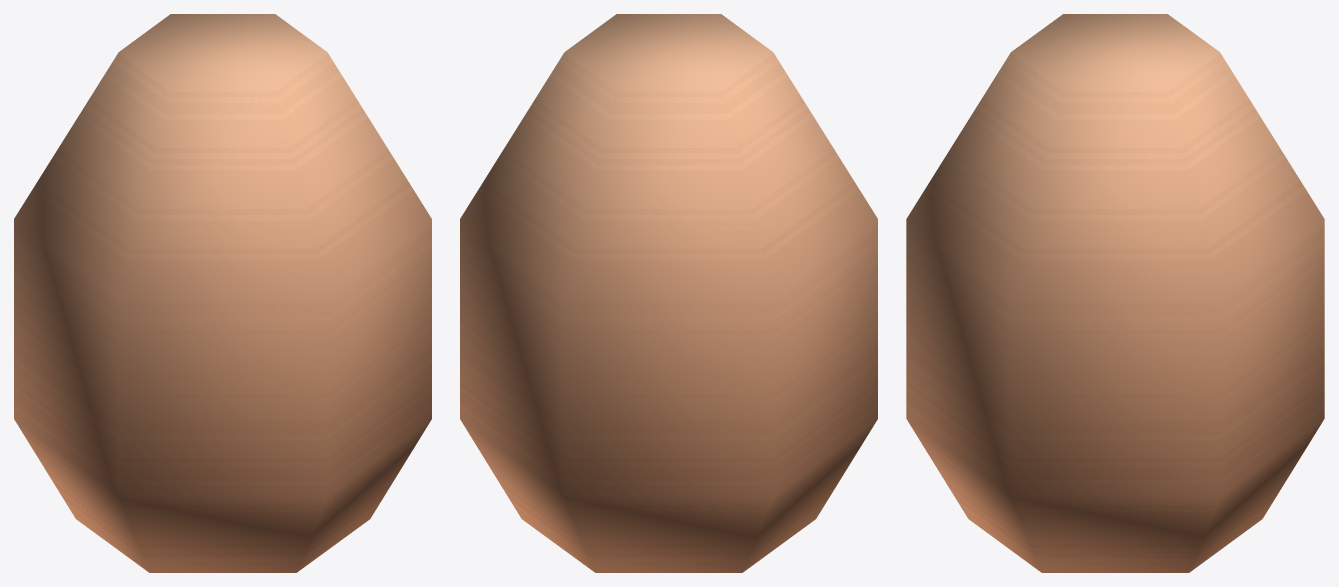
File: egg.glb
3 views of the same model, side by side, from view 1: azimuth 30°, elevation 25°; view 2: azimuth 150°, elevation 25°; view 3: azimuth 270°, elevation 25° (orthographic).
Visible parts, largest first — view 1: egg; view 2: egg; view 3: egg.
Part boxes in pixels (left/top/right/bottom): egg: left=14, top=14, right=431, bottom=572; egg: left=460, top=14, right=877, bottom=572; egg: left=906, top=14, right=1324, bottom=572.
Bounding box in the file's own units: 0.1161 × 0.1652 × 0.134.
Materials: 1 (1 with a texture image).
